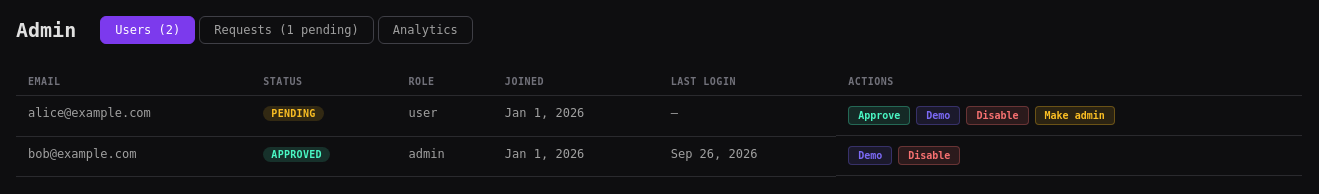
Test: AdminPage › switches to Requests tab and shows request data
Expected: the text "alice@example.com" is shown, [16,96,251,136]
Click the button "Requests (1 pending)": (287, 30) [199,16,374,44]
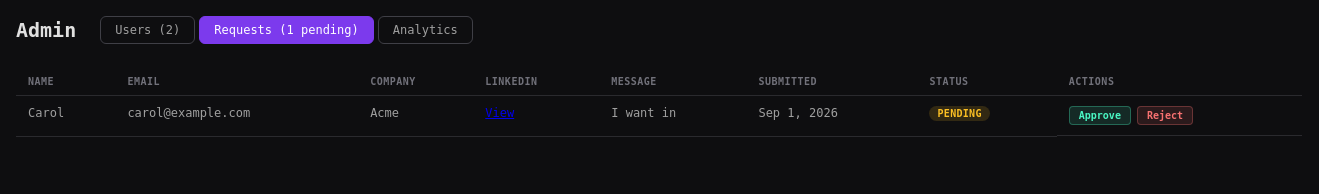
Expected: the text "Carol" is shown, [16,96,115,136]
Expected: the text "carol@example.com" is shown, [115,96,358,136]
